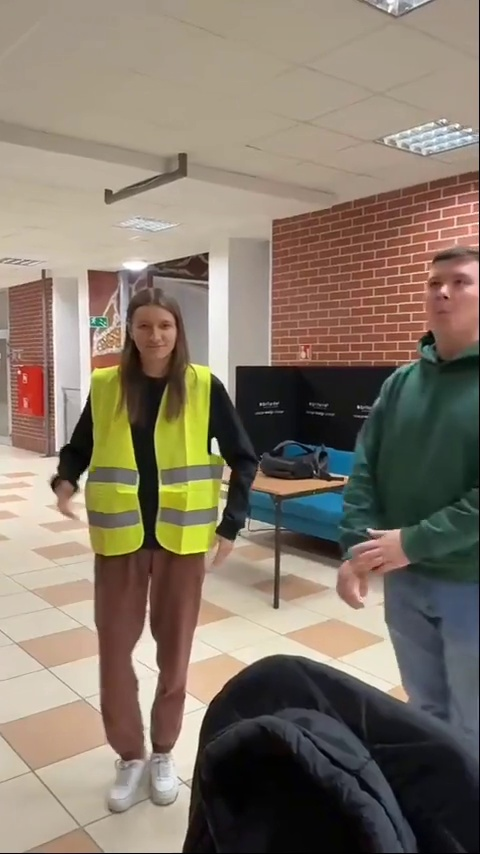no vest: (337, 246, 480, 746)
vest: (61, 295, 266, 808)
